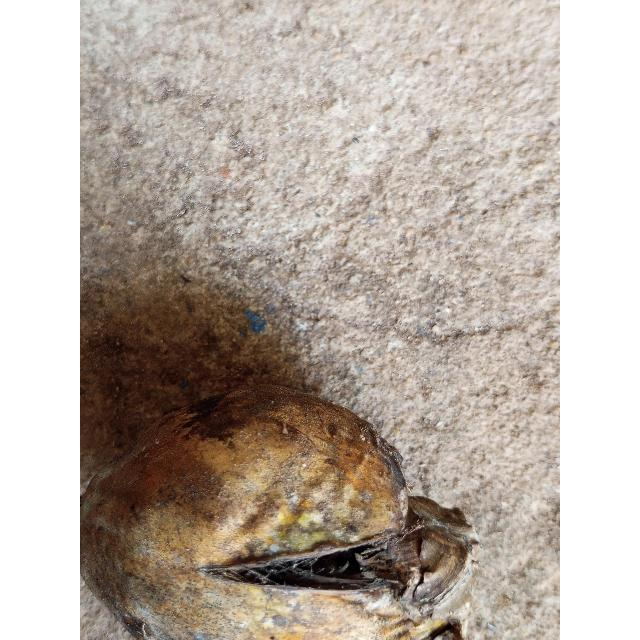damaged: (81, 385, 479, 640)
